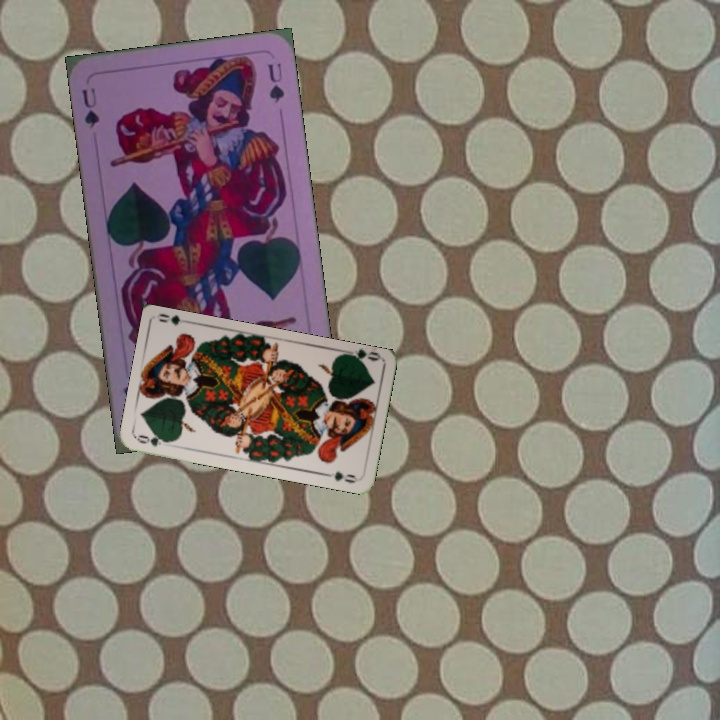GO: (341, 346, 382, 368), (133, 431, 174, 449)
GU: (78, 83, 102, 131)
